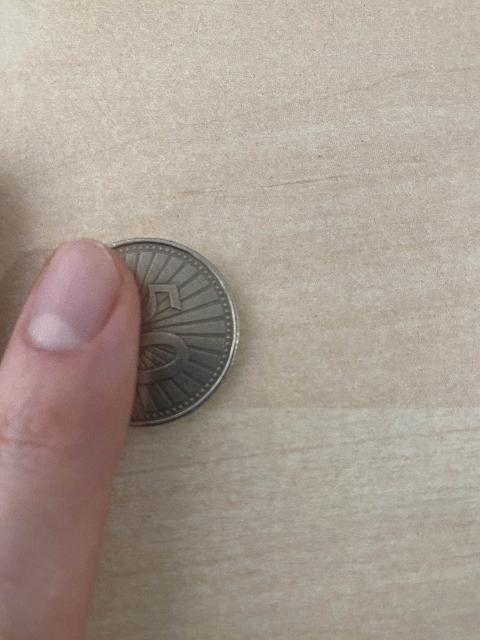coin: (127, 234, 231, 426)
